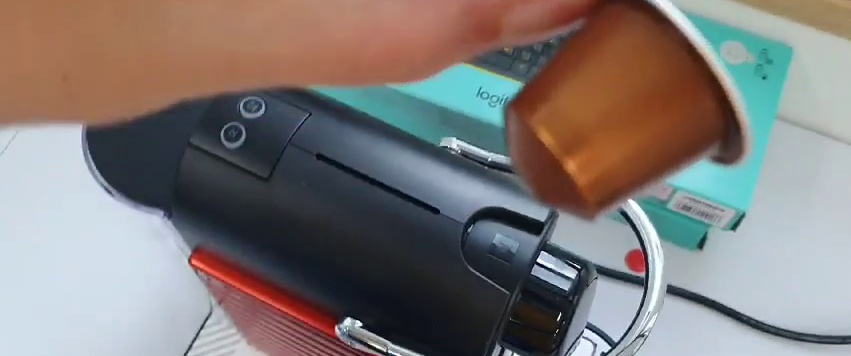capsule_3: (499, 1, 755, 223)
